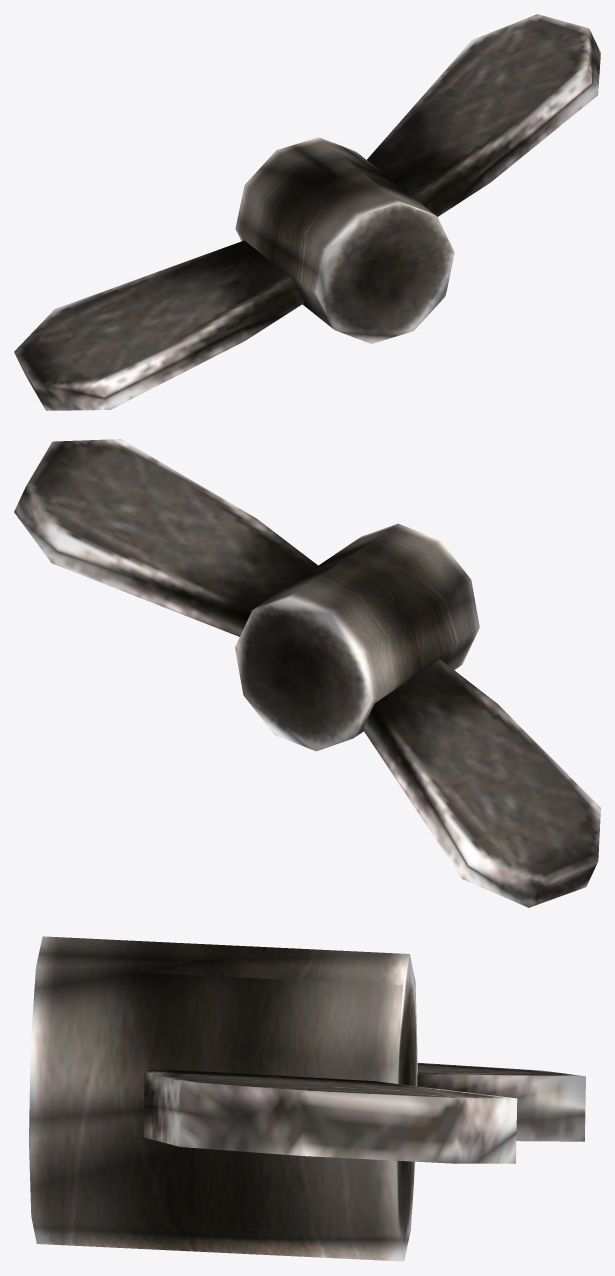
File: Robot01.LeftPalm3.fbx
The picture shows the model from 3 angles, top to bottom: view 1: azimuth 30°, elevation 25°; view 2: azimuth 150°, elevation 25°; view 3: azimuth 270°, elevation 25°; orthographic projection. The views are drawn at different scales.
Parts seen in each view (by area): view 1: mesh_1081; view 2: mesh_1081; view 3: mesh_1081.
Boxes of the visible parts, x1,y1,x2,y2 form: mesh_1081: (14, 14, 600, 410); mesh_1081: (14, 439, 600, 907); mesh_1081: (29, 936, 585, 1261).
Size of the model in its own units: 29.23 by 13.97 by 12.97.
